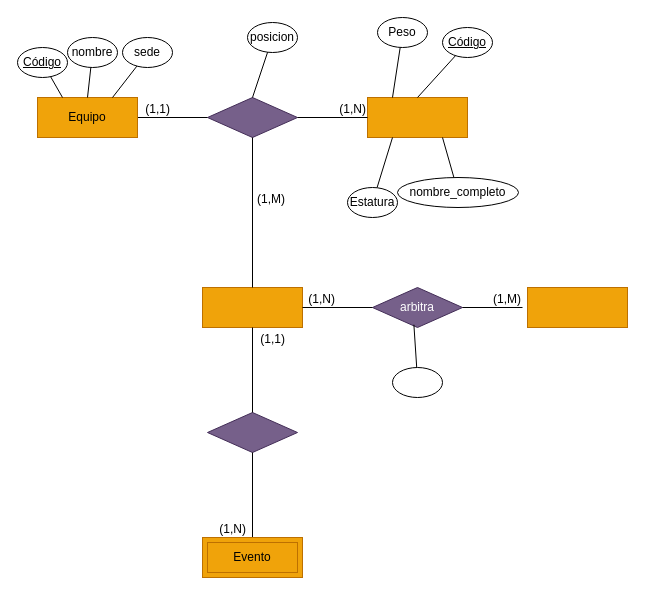
Some shapes in this 645 by 595 pixel diagram are drawn without their labels. The shapes that lost their labels are listed below. From the top down, each one's centre as x and y in pixels, then its label:
At pixel 252 117: "juega".
At pixel 417 117: "Jugador".
At pixel 252 307: "Partido".
At pixel 577 307: "Arbitro".
At pixel 417 382: "funcion".
At pixel 252 432: "ocurre".
